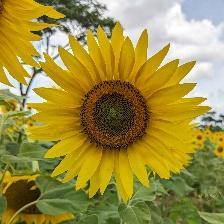sunflower: (26, 22, 211, 204)
